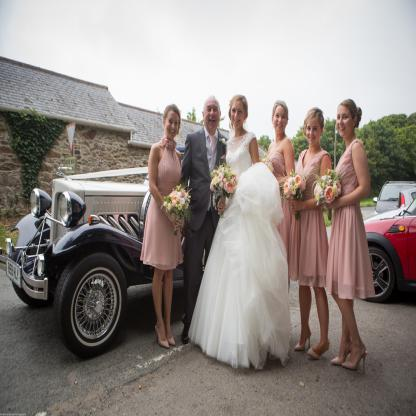Car: (362, 197, 416, 299), (372, 179, 416, 217)
